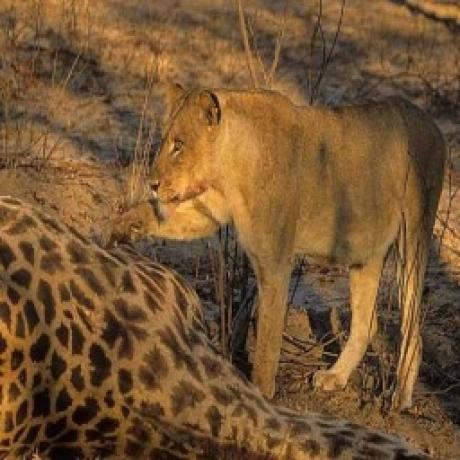Lion: (146, 80, 451, 414)
